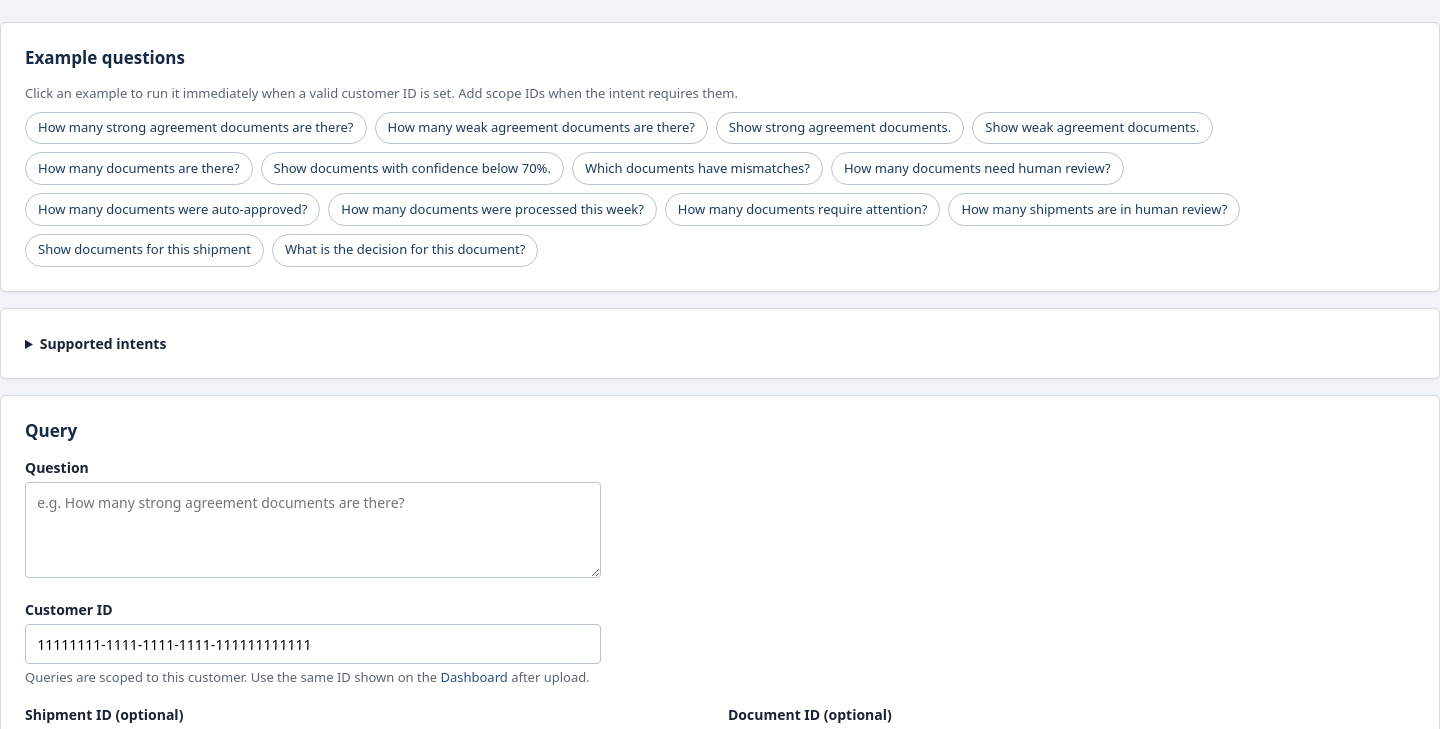
Test: QueryPage › renders grounded agreement count and list answers
Step 1. Type "How many strong agreement documents are there?" into the text box labelled "Question" → (313, 530), box [25,482,601,578]
(page scrolled)
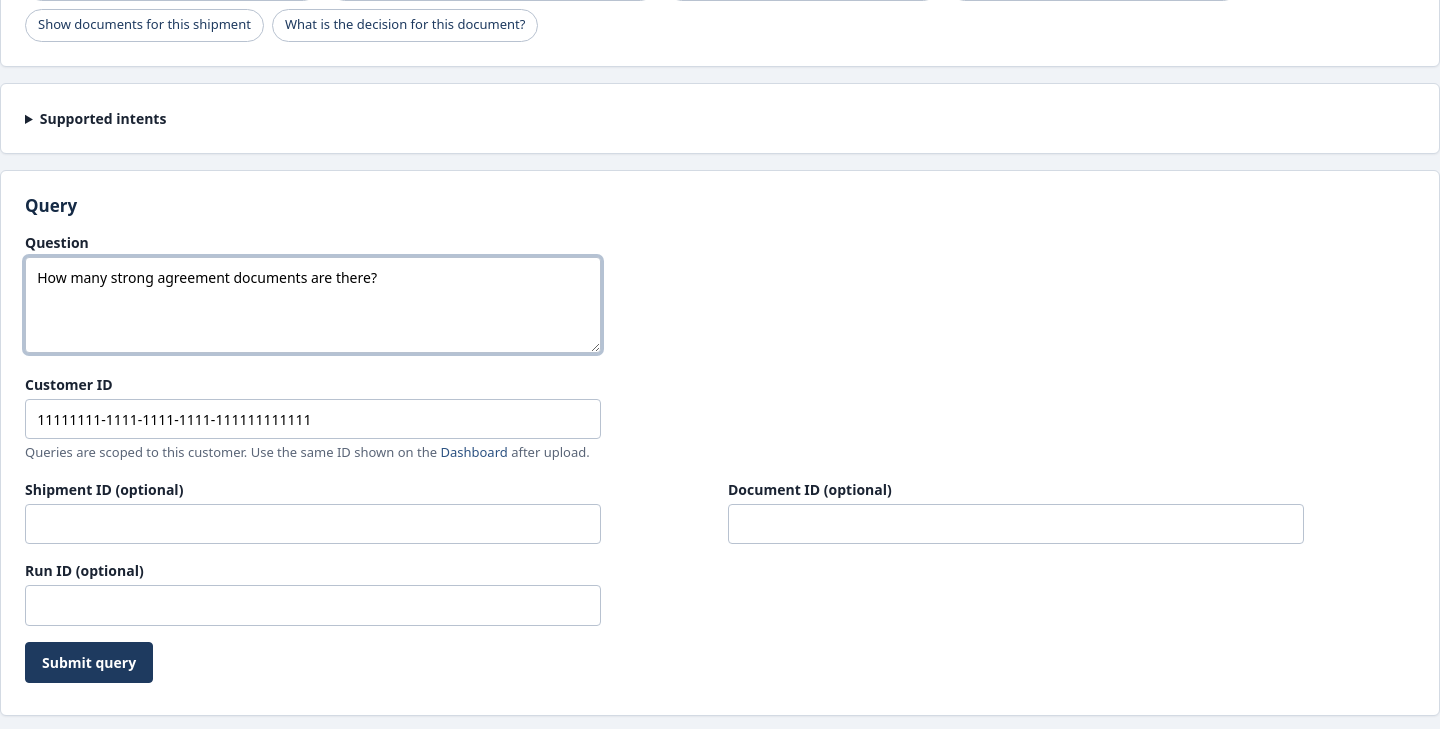
Step 2. Click the button "Submit query" → (89, 662), box [25,642,153,683]
(page scrolled)
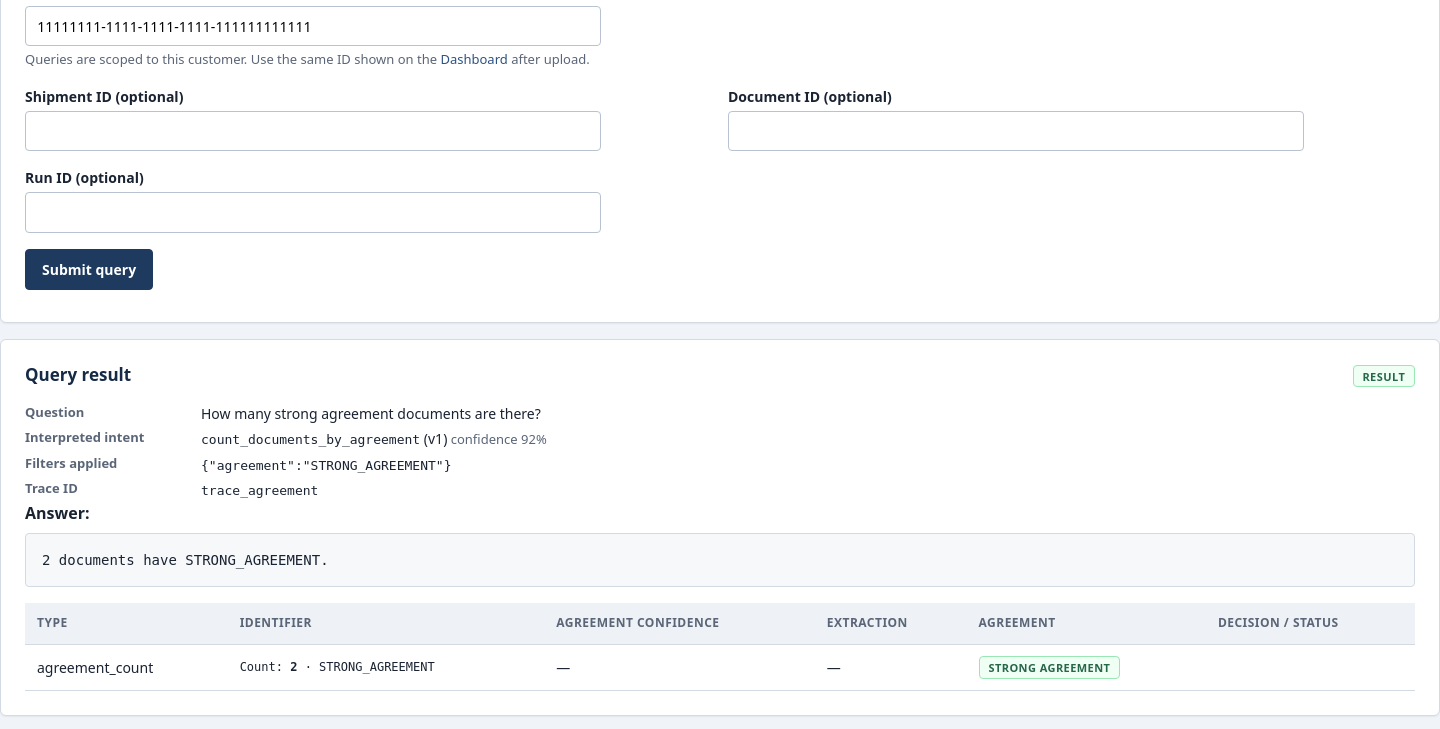
Expected: the text "RESULT" is shown, [1353,365,1415,387]
Expected: the text "2 documents have STRONG_AGREEMENT." is shown, [25,533,1415,587]
Expected: the text "STRONG AGREEMENT" is shown, [979,656,1120,679]
